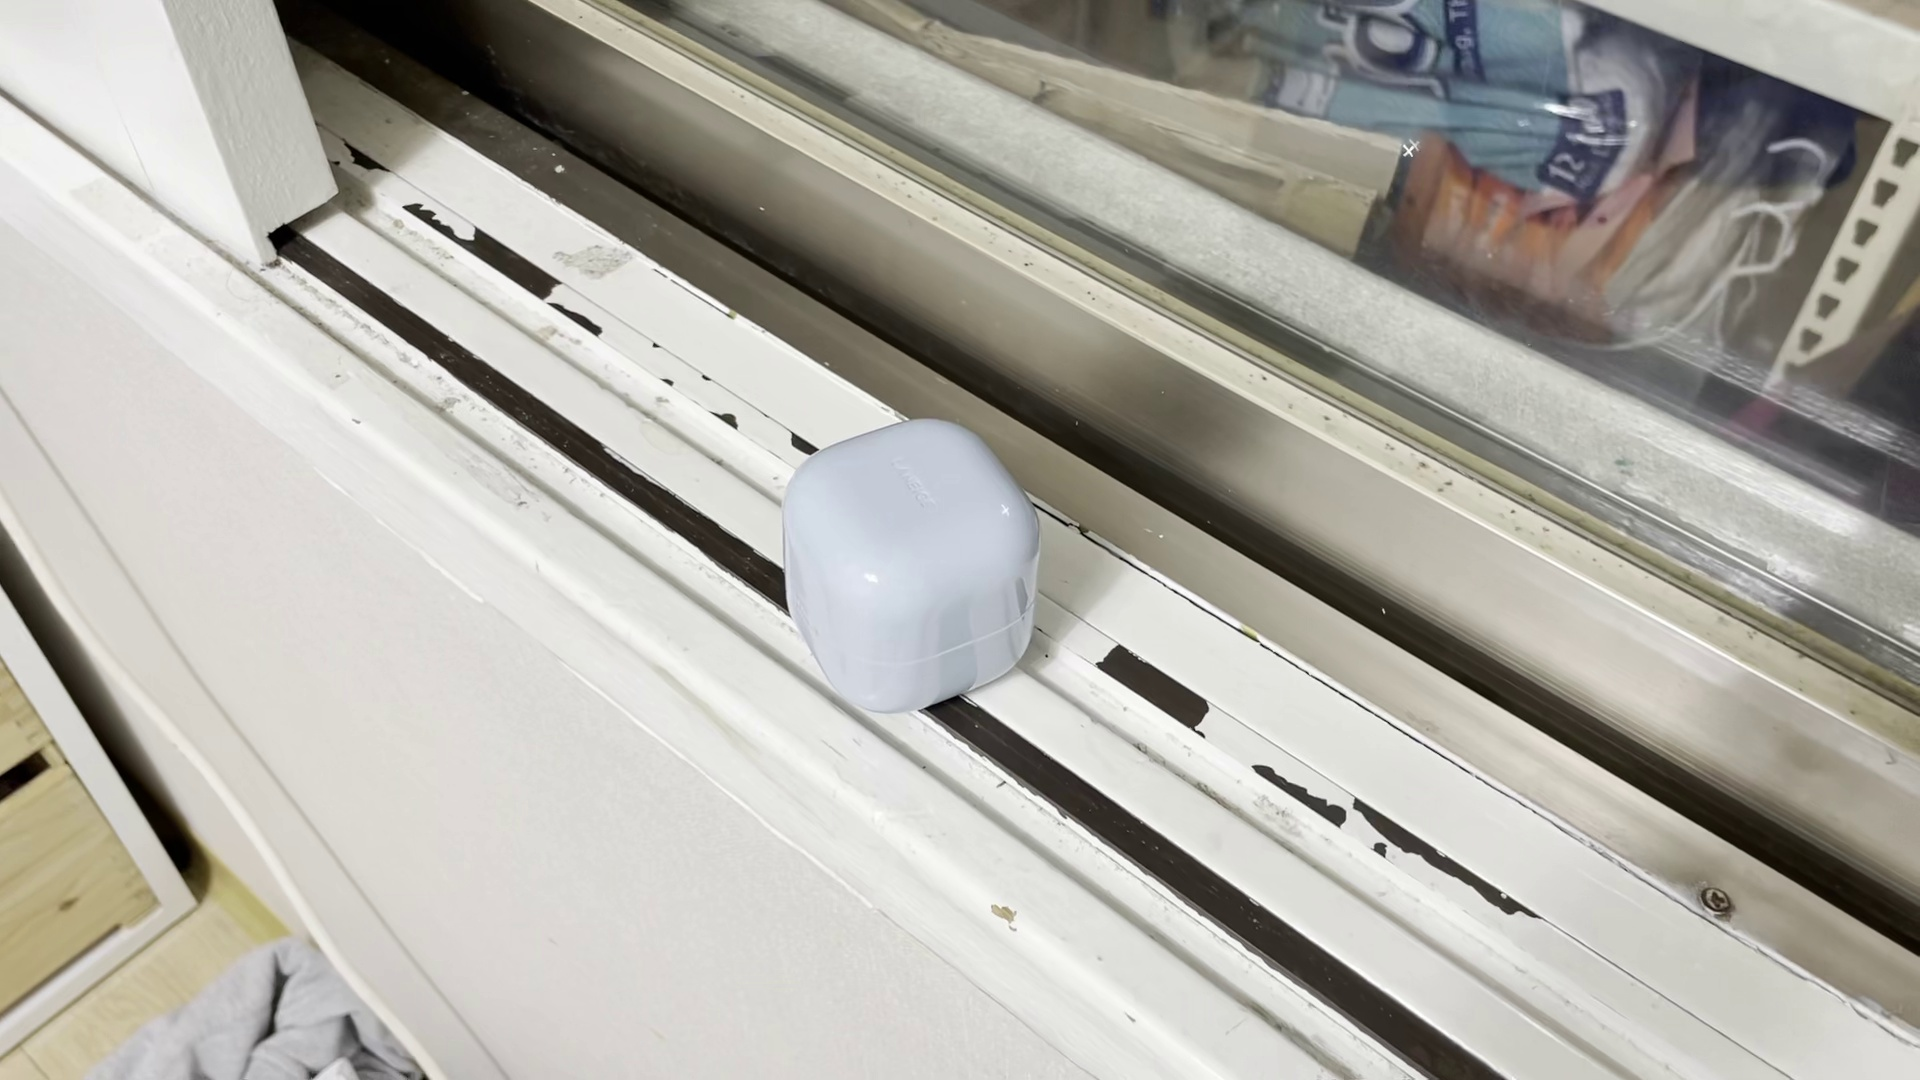cream: (783, 415, 1038, 711)
